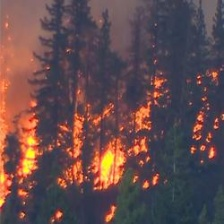fire: (49, 81, 163, 182), (1, 38, 38, 185)
